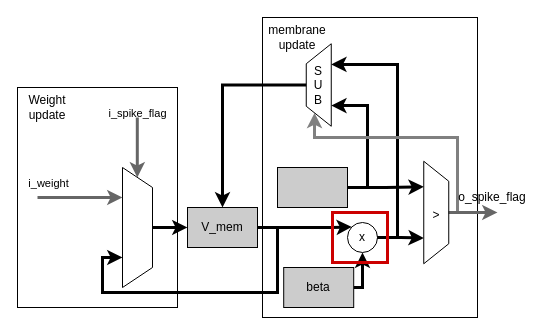
The diagram is 543 pixels wide and 335 high, and some of its shapes have lost their labels. Each missing label, with the centre of its shape:
"A D D" belongs at point (137, 227).
"V_threshold" belongs at point (312, 187).
